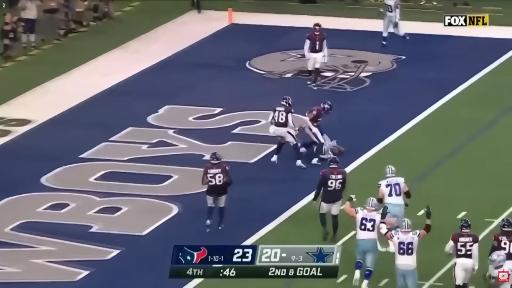Helmet: (489, 251, 506, 268), (365, 198, 379, 210), (500, 218, 512, 231), (321, 101, 332, 113), (400, 219, 411, 231), (460, 219, 471, 231), (210, 152, 221, 163), (328, 156, 339, 167), (385, 166, 395, 177), (281, 96, 292, 106), (313, 23, 322, 34), (322, 144, 328, 154)
Jersey: (391, 230, 420, 269), (314, 168, 346, 203), (203, 163, 231, 197), (355, 208, 380, 239), (379, 177, 405, 205), (451, 232, 478, 258), (270, 106, 294, 128), (489, 263, 511, 287), (493, 232, 511, 261), (306, 32, 326, 54), (308, 106, 323, 125), (385, 0, 398, 17), (321, 153, 332, 158)
Player: (380, 206, 431, 287), (344, 196, 383, 287), (313, 157, 346, 242), (268, 96, 305, 167), (305, 102, 345, 165), (202, 152, 232, 231), (445, 219, 478, 287), (378, 166, 411, 229), (304, 23, 327, 88), (382, 0, 408, 46), (490, 218, 511, 266), (487, 251, 511, 287)
